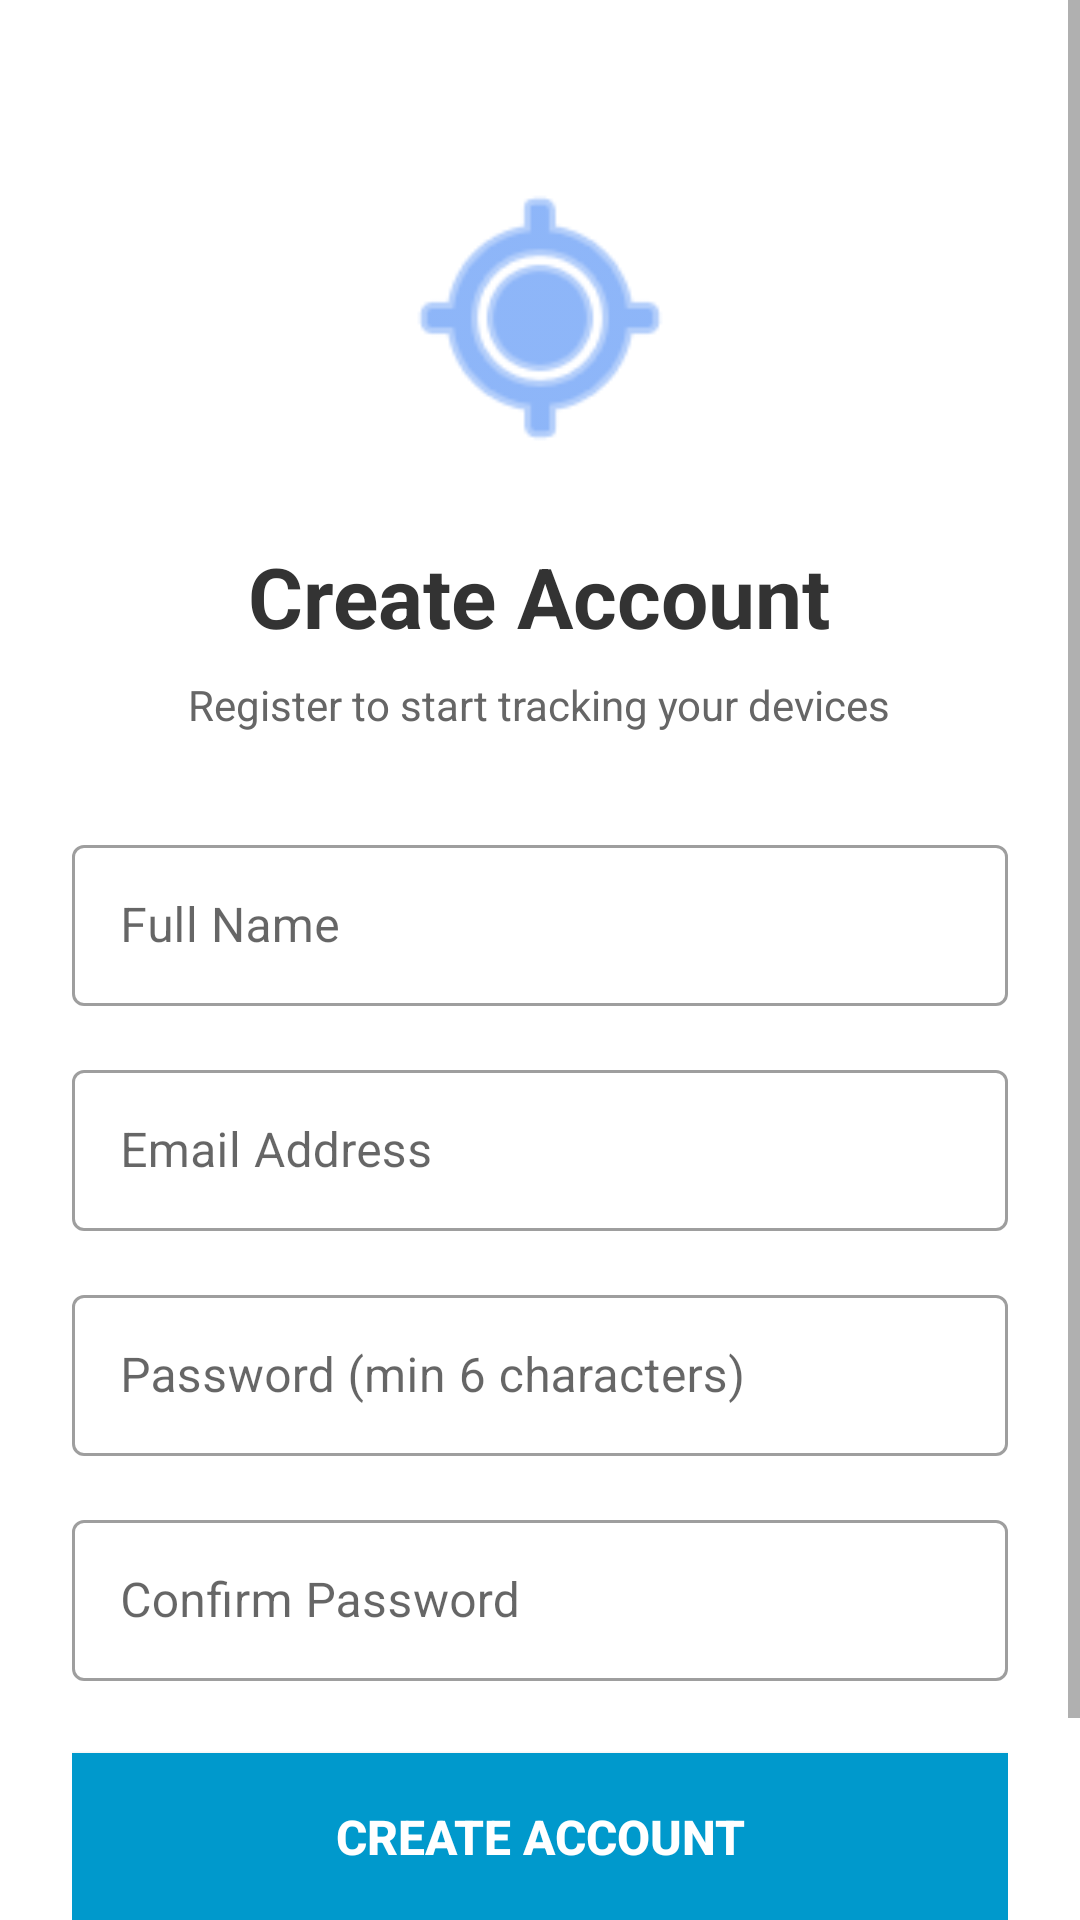

Named icons in this screenshot (1080px×1920px) and their bounding boxes, (x1, y1, x2, y2):
mylocation: (420, 198, 660, 438)
